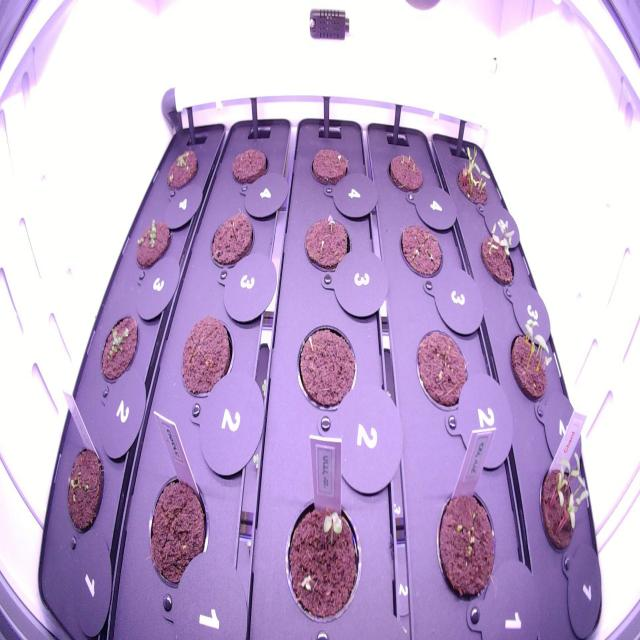germination: (275, 482, 367, 626), (529, 430, 599, 574), (503, 298, 563, 413), (57, 436, 111, 540), (92, 301, 144, 398), (294, 200, 354, 281), (472, 201, 523, 295), (448, 137, 499, 220), (129, 208, 176, 276), (382, 143, 429, 209), (160, 138, 203, 196)
pod: (429, 476, 504, 618), (142, 455, 215, 600), (289, 314, 362, 418), (410, 322, 476, 422), (176, 304, 237, 410), (204, 202, 260, 280), (396, 216, 447, 292), (224, 140, 275, 198), (307, 134, 354, 192)
